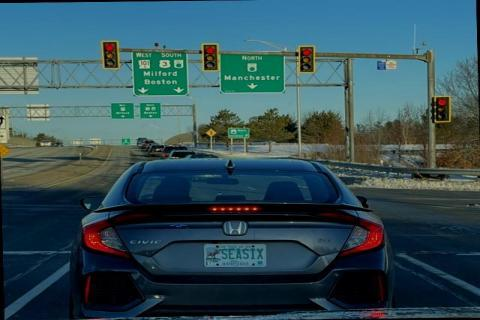LicensePlate: (202, 243, 264, 266)
